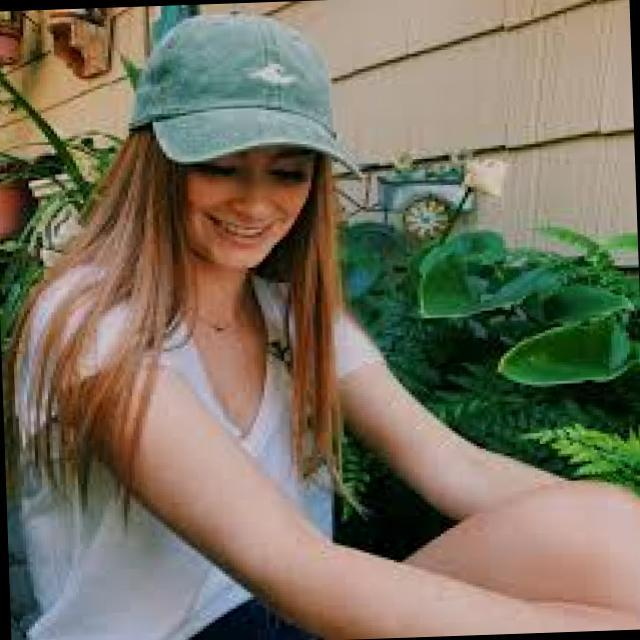cap: (99, 0, 399, 206)
